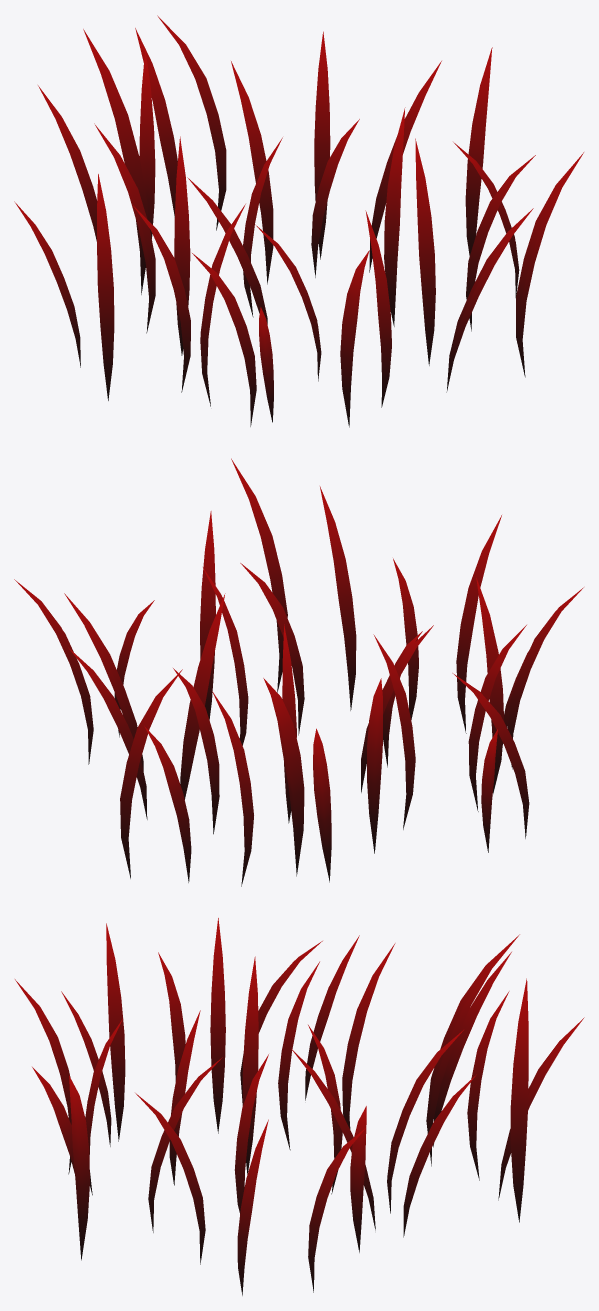
The model's file is Pasto.fbx.
3 renders of one model, top to bottom at view 1: azimuth 30°, elevation 25°; view 2: azimuth 150°, elevation 25°; view 3: azimuth 270°, elevation 25°, orthographic. The views are drawn at different scales.
Parts seen in each view (by area): view 1: Grass; view 2: Grass; view 3: Grass.
Part boxes in pixels (bbox=[...]): Grass: bbox=[14, 15, 583, 427]; Grass: bbox=[14, 458, 583, 886]; Grass: bbox=[15, 918, 584, 1295].
Size of the model in its own units: 2.9 by 1.38 by 3.1.
